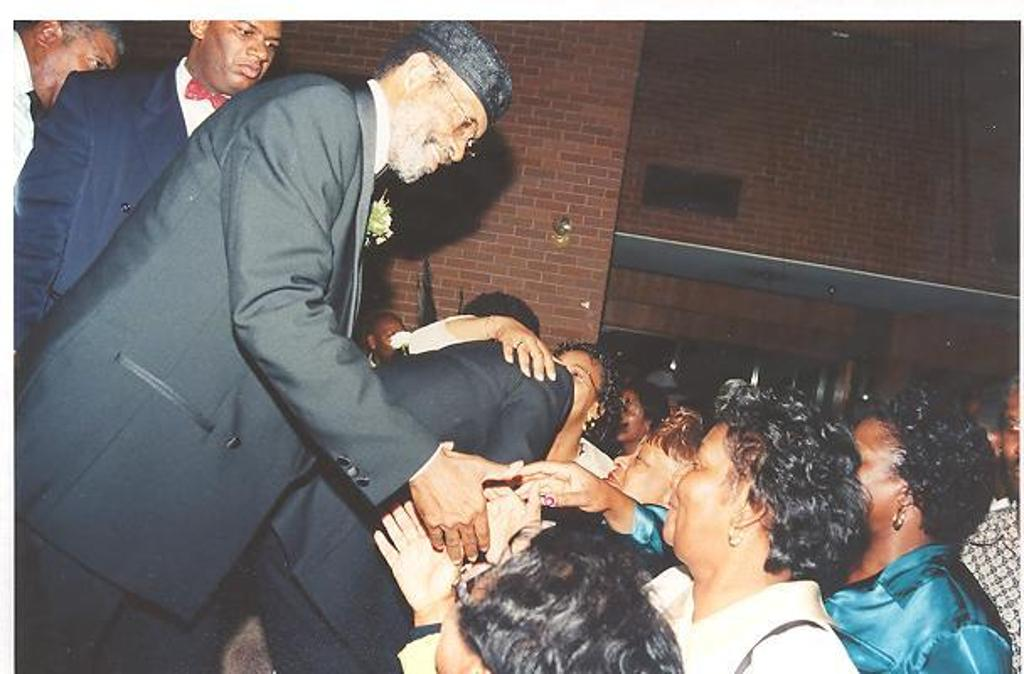face: (676, 435, 769, 557), (395, 83, 487, 180), (828, 426, 909, 531), (36, 22, 120, 109), (593, 433, 673, 512), (215, 21, 279, 92), (542, 351, 597, 423), (1000, 394, 1024, 491), (612, 388, 645, 442), (378, 321, 408, 358)
